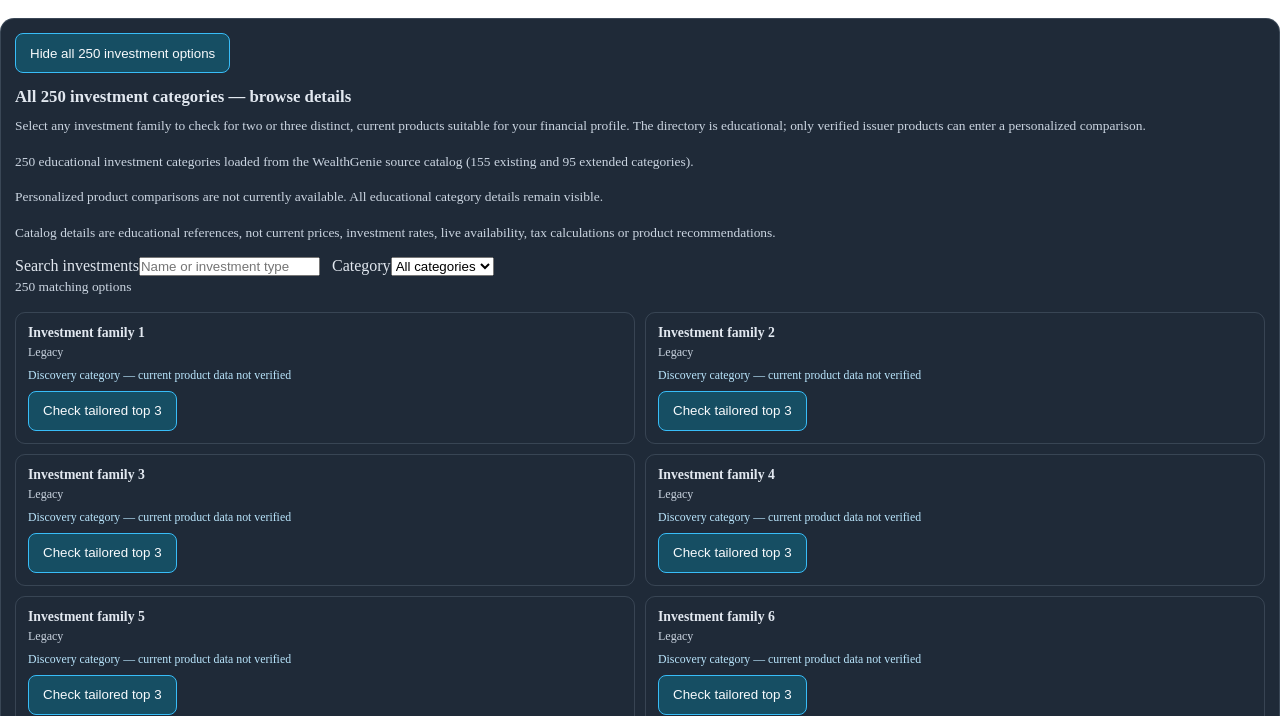
Test: shows all 250 educational families while PostgreSQL recommendation feature is off
The image size is (1280, 716).
Expected: the text "250 matching options" is shown, top-left (15, 279), bottom-right (132, 294)
Click the button with aria-label "Check tailored top 3 for Investment family 1" at point(102, 410), box top-left (28, 390), bottom-right (176, 430)
(page scrolled)
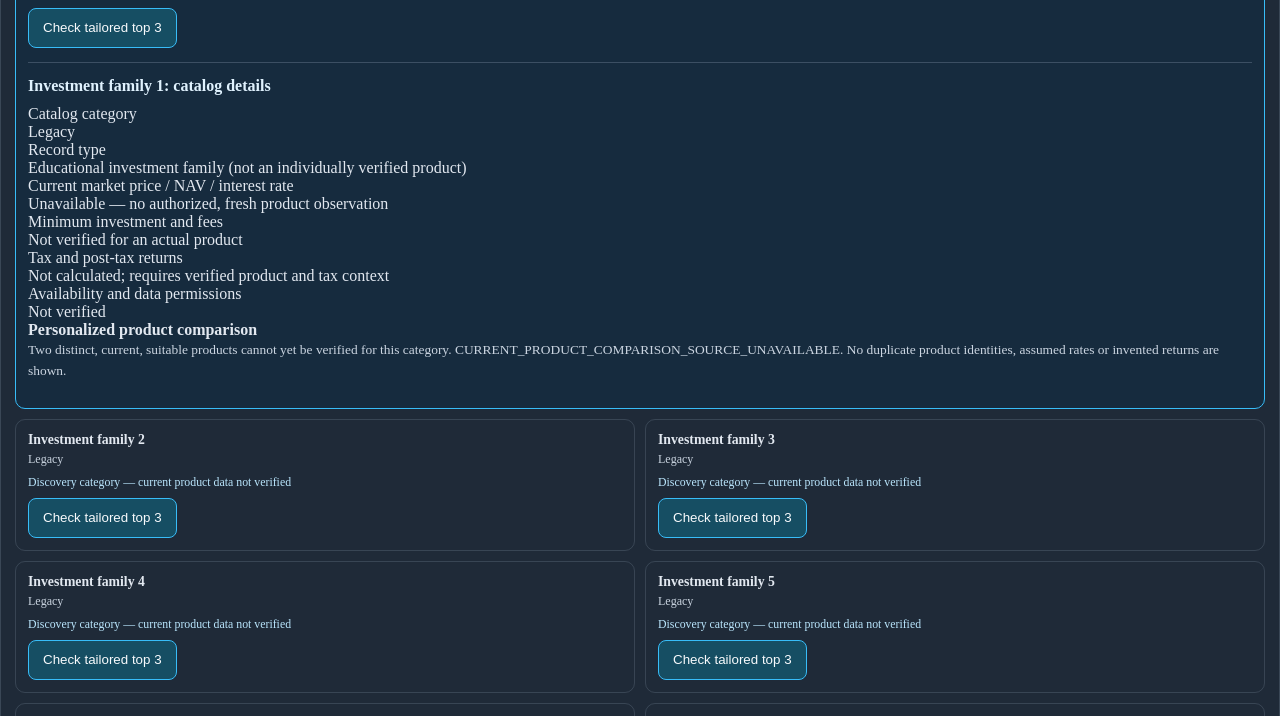
Result: the text "Current market price / NAV / interest rate" is shown at top-left (28, 176), bottom-right (294, 194)
Result: the text "CURRENT_PRODUCT_COMPARISON_SOURCE_UNAVAILABLE" is shown at top-left (455, 342), bottom-right (840, 356)
